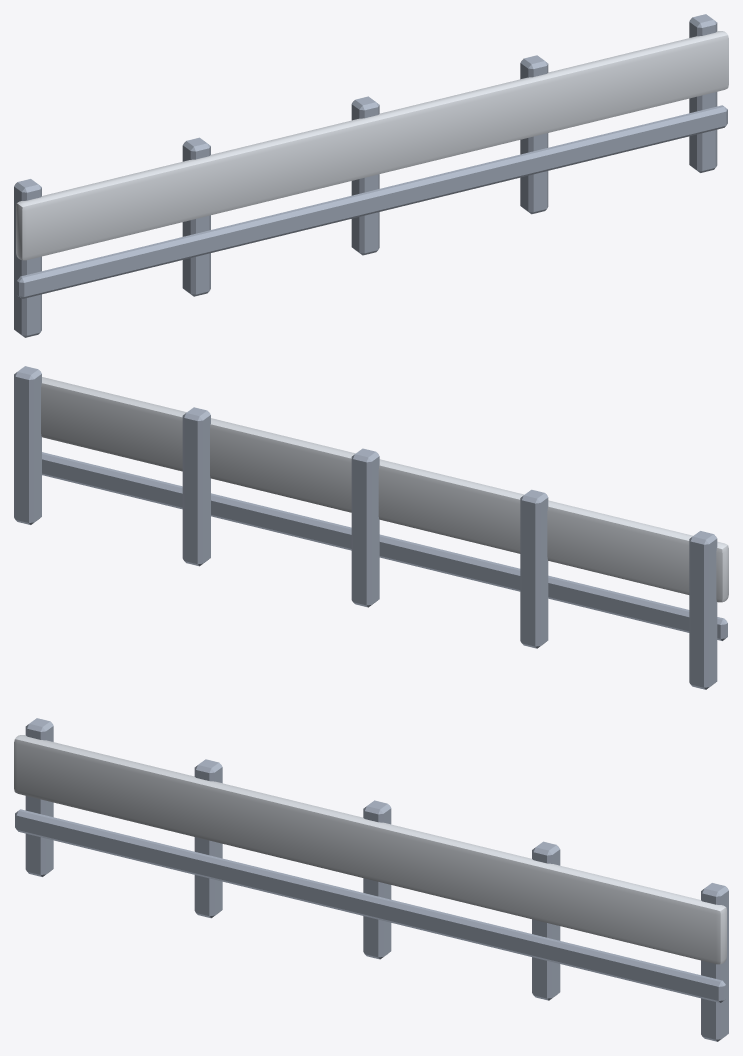
The model's file is guardrail.glb.
The picture shows the model from 3 angles, top to bottom: view 1: azimuth 30°, elevation 25°; view 2: azimuth 150°, elevation 25°; view 3: azimuth 330°, elevation 25°; orthographic projection.
Parts seen in each view (by area): view 1: chrome, steel; view 2: chrome, steel; view 3: chrome, steel.
Boxes of the visible parts, box(x1,y1,x2,y2) form: chrome: box(16, 31, 728, 260); steel: box(14, 14, 727, 337); chrome: box(41, 377, 728, 602); steel: box(14, 366, 727, 689); chrome: box(14, 735, 726, 964); steel: box(15, 718, 728, 1041).
Size of the model in its own units: 4.2 by 0.85 by 0.17.
